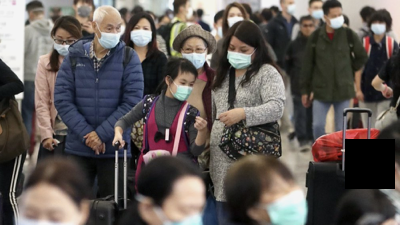with_mask: (257, 176, 310, 225), (160, 196, 209, 225), (226, 43, 254, 72), (181, 43, 207, 72), (97, 22, 121, 51), (128, 24, 154, 47), (172, 77, 195, 102), (52, 34, 75, 58), (227, 11, 245, 30), (327, 12, 345, 29), (369, 21, 389, 36), (76, 1, 92, 19), (183, 3, 193, 20), (285, 1, 297, 15), (311, 6, 323, 20)
without_mask: (300, 19, 315, 37)
